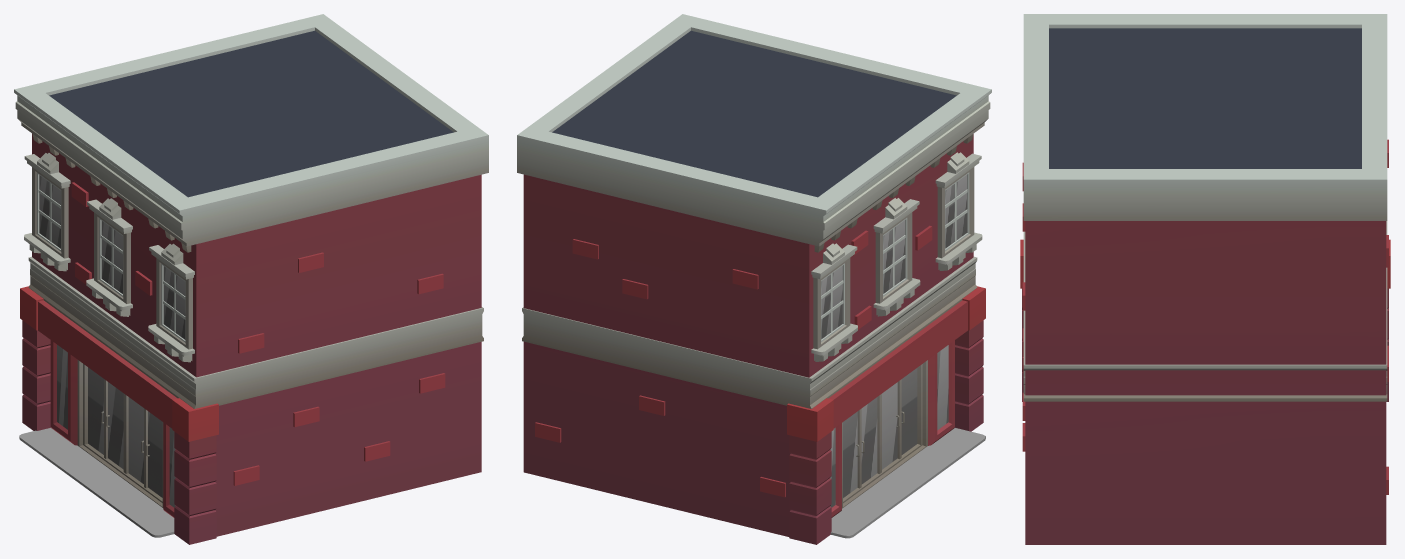
Rendered from Building_21_4_F.fbx.
3 views of the same model, side by side, from view 1: azimuth 30°, elevation 25°; view 2: azimuth 150°, elevation 25°; view 3: azimuth 270°, elevation 25° (orthographic). The views are drawn at different scales.
Visible parts, largest first — view 1: Building_21_4_F; view 2: Building_21_4_F; view 3: Building_21_4_F.
Boxes of the visible parts, bbox=[...] form: Building_21_4_F: bbox=[14, 14, 488, 544]; Building_21_4_F: bbox=[517, 14, 991, 544]; Building_21_4_F: bbox=[1020, 14, 1390, 544].
Bounding box in the file's own units: 779 × 782 × 713.
